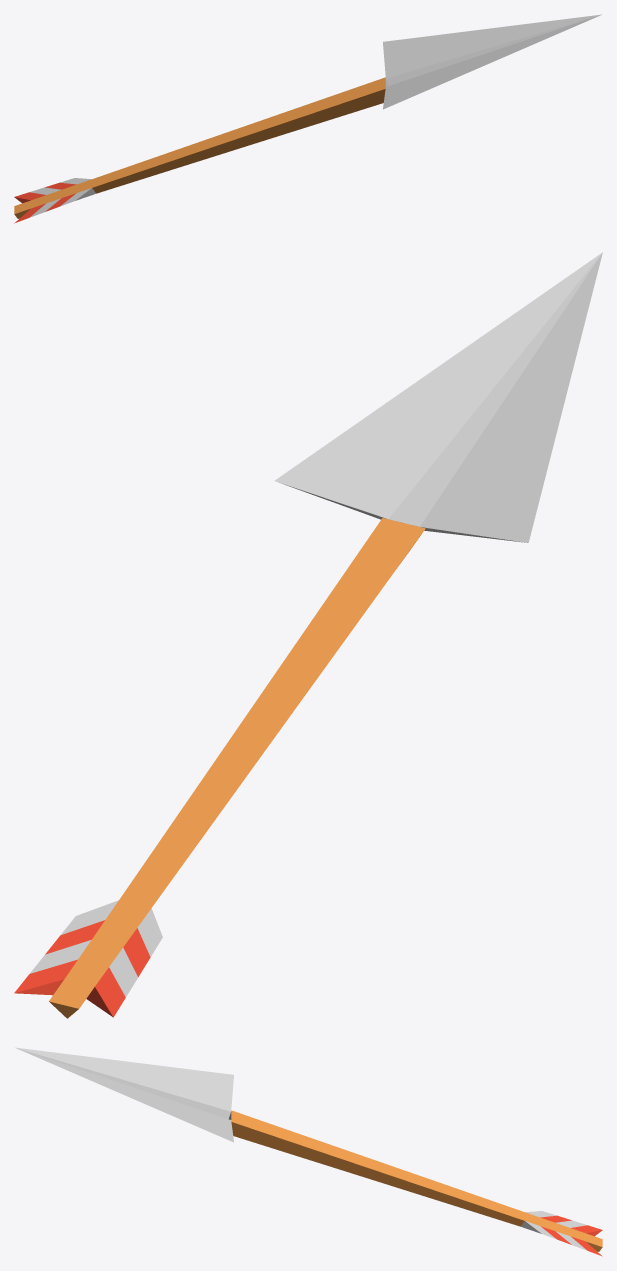
Rendered from SIAM_arrow.fbx.
The picture shows the model from 3 angles, top to bottom: view 1: azimuth 90°, elevation 25°; view 2: azimuth 150°, elevation 25°; view 3: azimuth 270°, elevation 25°; orthographic projection. The views are drawn at different scales.
Visible parts, largest first — view 1: Cube; view 2: Cube; view 3: Cube.
Boxes of the visible parts, box(x1,y1,x2,y2) form: Cube: box(14, 14, 601, 223); Cube: box(14, 252, 602, 1018); Cube: box(15, 1047, 602, 1256).
Bounding box in the file's own units: 38.42 × 54.05 × 141.
